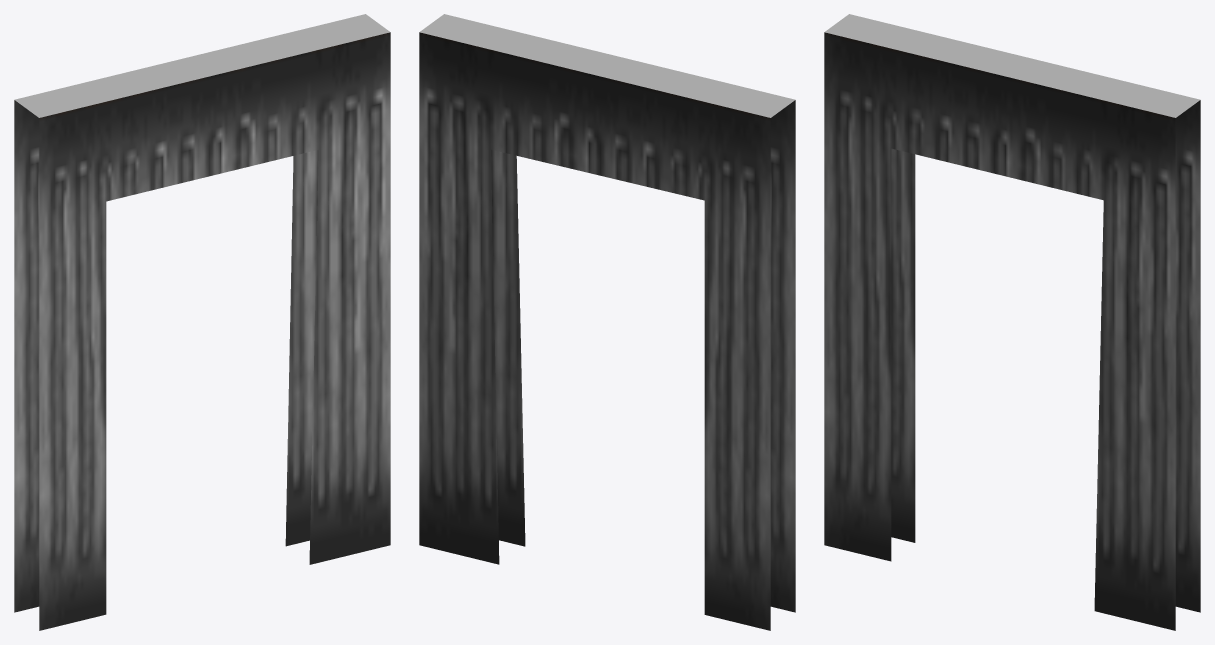
The model's file is W_I3_o [Wellblech]_791.glb.
3 renders of one model, left to right at view 1: azimuth 30°, elevation 25°; view 2: azimuth 150°, elevation 25°; view 3: azimuth 330°, elevation 25°, orthographic.
Visible parts, largest first — view 1: pPlaneShape2, pPlaneShape3, pPlaneShape1; view 2: pPlaneShape3, pPlaneShape2, pPlaneShape1; view 3: pPlaneShape2, pPlaneShape3, pPlaneShape1.
Boxes of the visible parts, x1,y1,x2,y2 form: pPlaneShape2: (39, 32, 390, 630); pPlaneShape3: (14, 100, 318, 612); pPlaneShape1: (14, 14, 390, 117); pPlaneShape3: (419, 32, 770, 630); pPlaneShape2: (491, 100, 795, 612); pPlaneShape1: (419, 14, 795, 117); pPlaneShape2: (824, 32, 1175, 630); pPlaneShape3: (891, 100, 1200, 612); pPlaneShape1: (824, 14, 1200, 117).
Bounding box in the file's own units: 0.25 × 0.3486 × 0.0308.
Materials: 3 (2 with a texture image).
